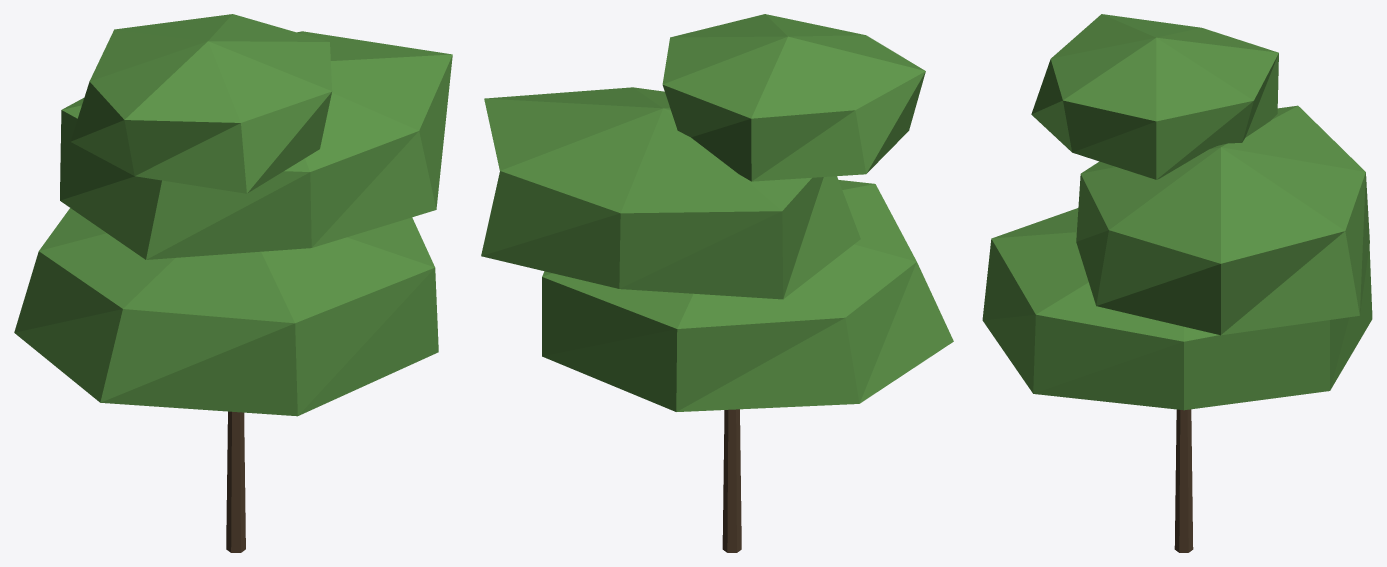
Rendered from kaede.glb.
The picture shows the model from 3 angles, left to right: view 1: azimuth 30°, elevation 25°; view 2: azimuth 150°, elevation 25°; view 3: azimuth 270°, elevation 25°; orthographic projection. The views are drawn at different scales.
Visible parts, largest first — view 1: kaede; view 2: kaede; view 3: kaede.
Boxes of the visible parts, box(x1,y1,x2,y2) form: kaede: box(14, 14, 452, 552); kaede: box(481, 14, 953, 552); kaede: box(982, 14, 1372, 552).
Bounding box in the file's own units: 4.89 × 5.9 × 4.23.
